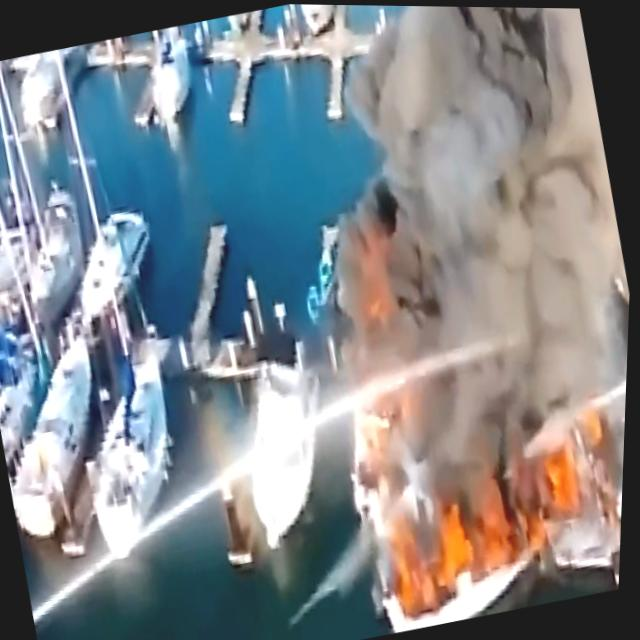fire: (392, 486, 490, 601), (479, 438, 563, 540)
smoke: (406, 75, 603, 366), (383, 5, 549, 143), (489, 6, 614, 186)
